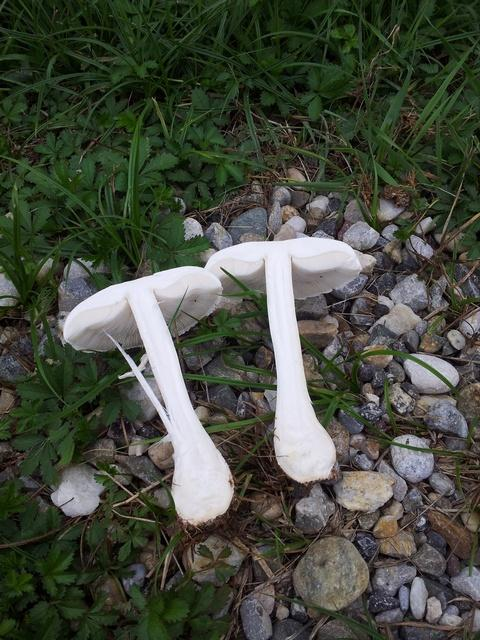poisonous_mushroom: (61, 264, 235, 527), (203, 235, 363, 485)
